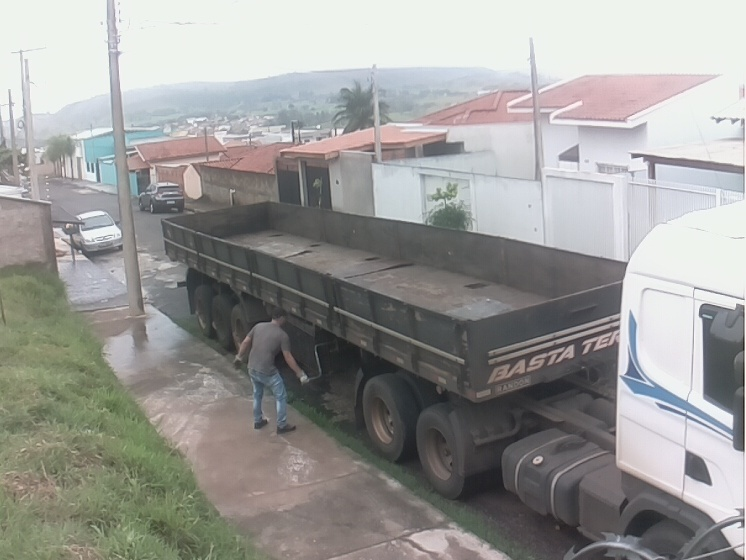person: (231, 307, 314, 437)
